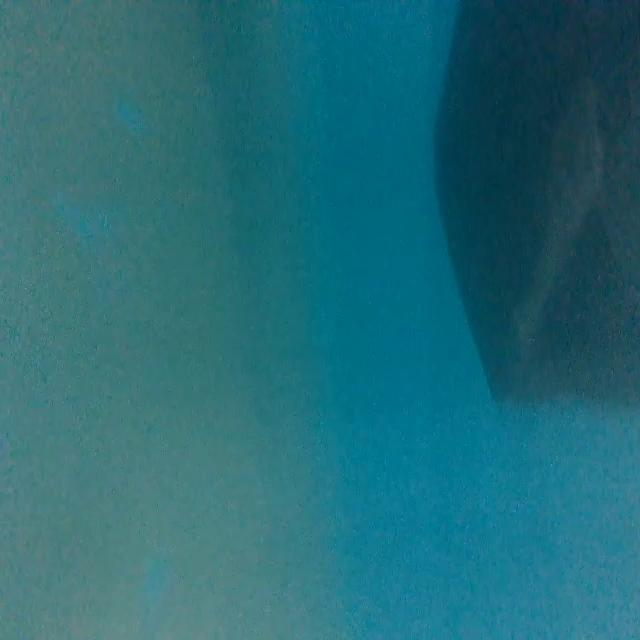plastic bags: (431, 1, 640, 427)
